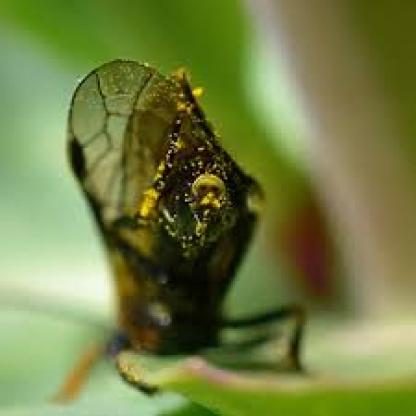sawfly: (46, 43, 316, 409)
